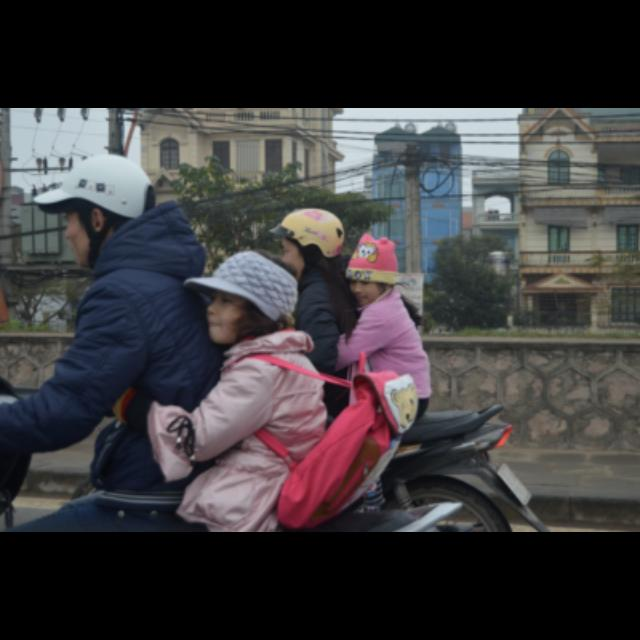With Helmet: (45, 150, 159, 270), (278, 200, 346, 284)
